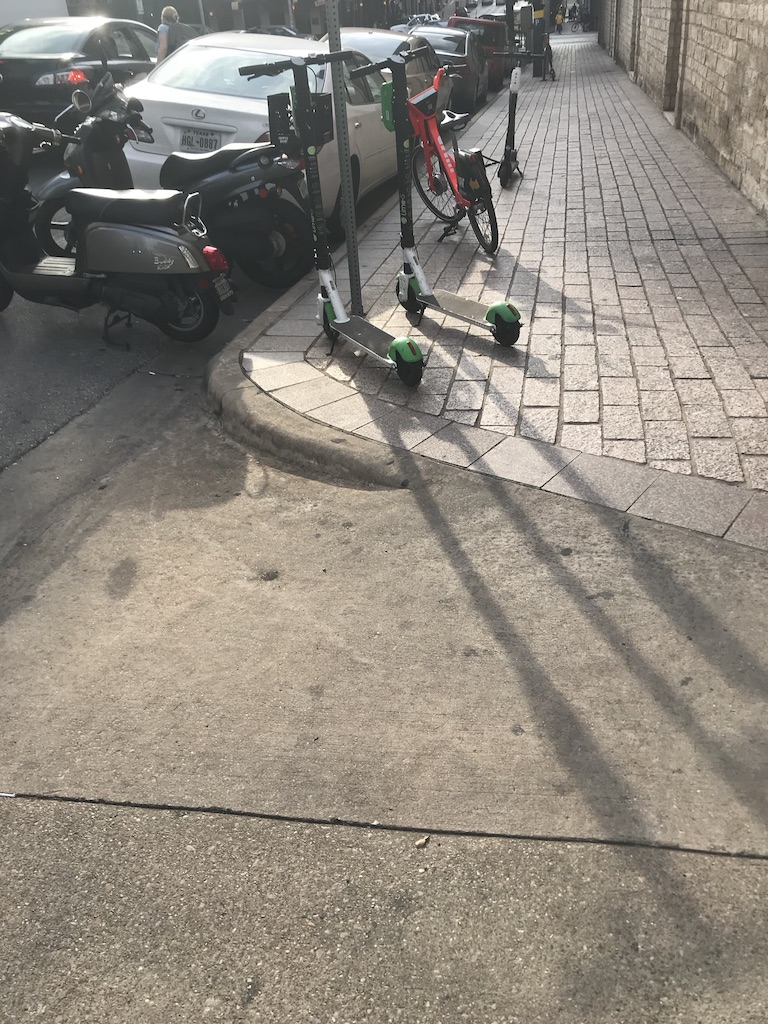scooter: (240, 50, 423, 387), (350, 44, 522, 347), (493, 52, 546, 189), (539, 33, 556, 80)
